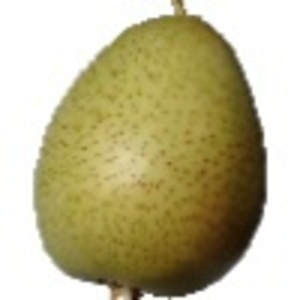pera: (32, 1, 268, 300)
